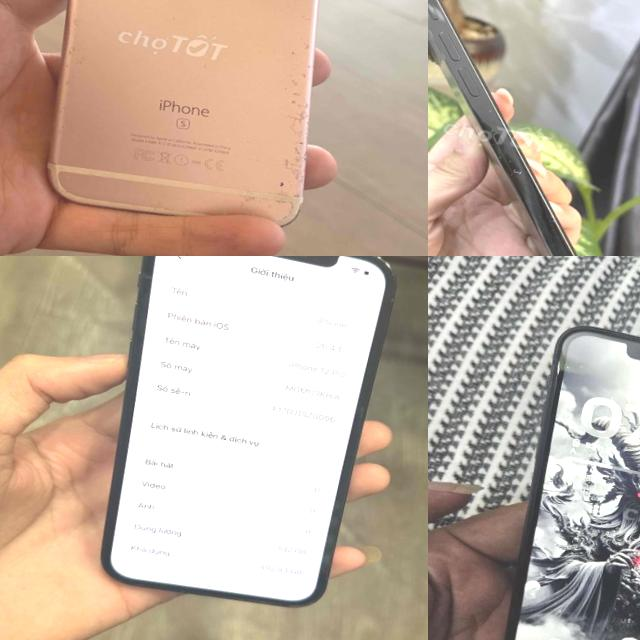gen_11: (477, 309, 640, 640)
gen_12_13: (72, 256, 424, 633), (428, 0, 640, 256)
gen_6: (47, 0, 319, 224)
